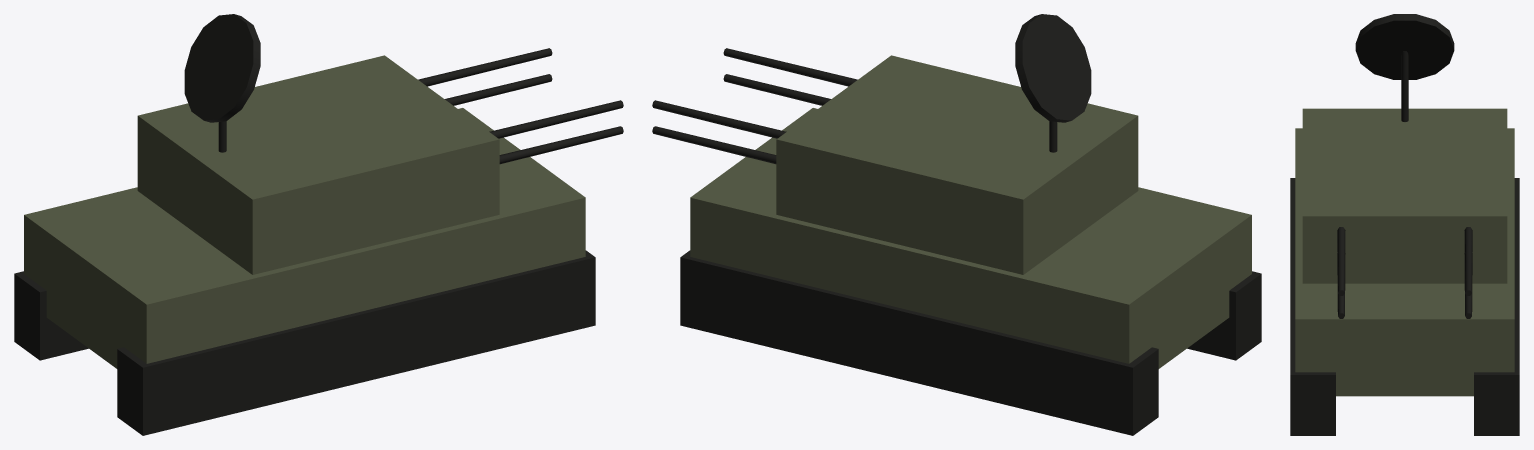
Rendered from zsu23.glb.
3 renders of one model, left to right at view 1: azimuth 30°, elevation 25°; view 2: azimuth 150°, elevation 25°; view 3: azimuth 270°, elevation 25°, orthographic. The views are drawn at different scales.
Visible parts, largest first — view 1: TurretBody, Hull, Track2, RadarDish, Track, Barrel4, Barrel3, Barrel2, Barrel; view 2: TurretBody, Hull, Track, RadarDish, Track2, Barrel3, Barrel4, Barrel, Barrel2; view 3: TurretBody, Hull, RadarDish, Track, Track2, Barrel3, Barrel4, RadarMast, Barrel, Barrel2.
Part boxes in pixels (bbox=[...]): TurretBody: bbox=[137, 55, 499, 274]; Hull: bbox=[24, 108, 585, 368]; Track2: bbox=[117, 250, 595, 435]; RadarDish: bbox=[184, 14, 260, 122]; Track: bbox=[14, 271, 88, 360]; Barrel4: bbox=[489, 100, 623, 138]; Barrel3: bbox=[418, 48, 552, 86]; Barrel2: bbox=[499, 126, 623, 164]; Barrel: bbox=[445, 74, 552, 105]; TurretBody: bbox=[776, 55, 1138, 274]; Hull: bbox=[690, 108, 1251, 368]; Track: bbox=[680, 250, 1158, 435]; RadarDish: bbox=[1015, 14, 1091, 122]; Track2: bbox=[1187, 271, 1261, 360]; Barrel3: bbox=[652, 100, 786, 138]; Barrel4: bbox=[723, 48, 857, 86]; Barrel: bbox=[652, 126, 776, 164]; Barrel2: bbox=[723, 74, 830, 105]; TurretBody: bbox=[1302, 108, 1507, 283]; Hull: bbox=[1295, 128, 1514, 396]; RadarDish: bbox=[1355, 14, 1454, 79]; Track: bbox=[1474, 178, 1519, 435]; Track2: bbox=[1290, 178, 1335, 435]; Barrel3: bbox=[1464, 227, 1472, 295]; Barrel4: bbox=[1337, 227, 1345, 295]; RadarMast: bbox=[1401, 51, 1408, 121]; Barrel: bbox=[1464, 253, 1472, 318]; Barrel2: bbox=[1337, 253, 1345, 318].
Bounding box in the file's own units: 7.4 × 4.61 × 3.25.
